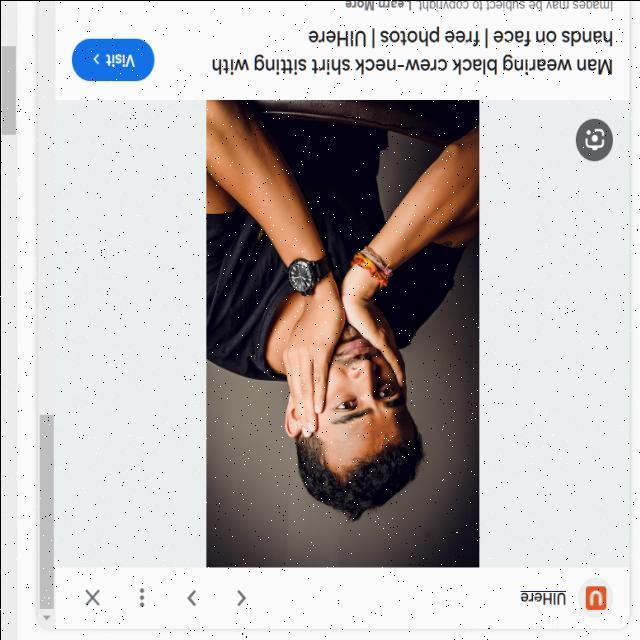face_with_hand: (280, 316, 402, 458)
